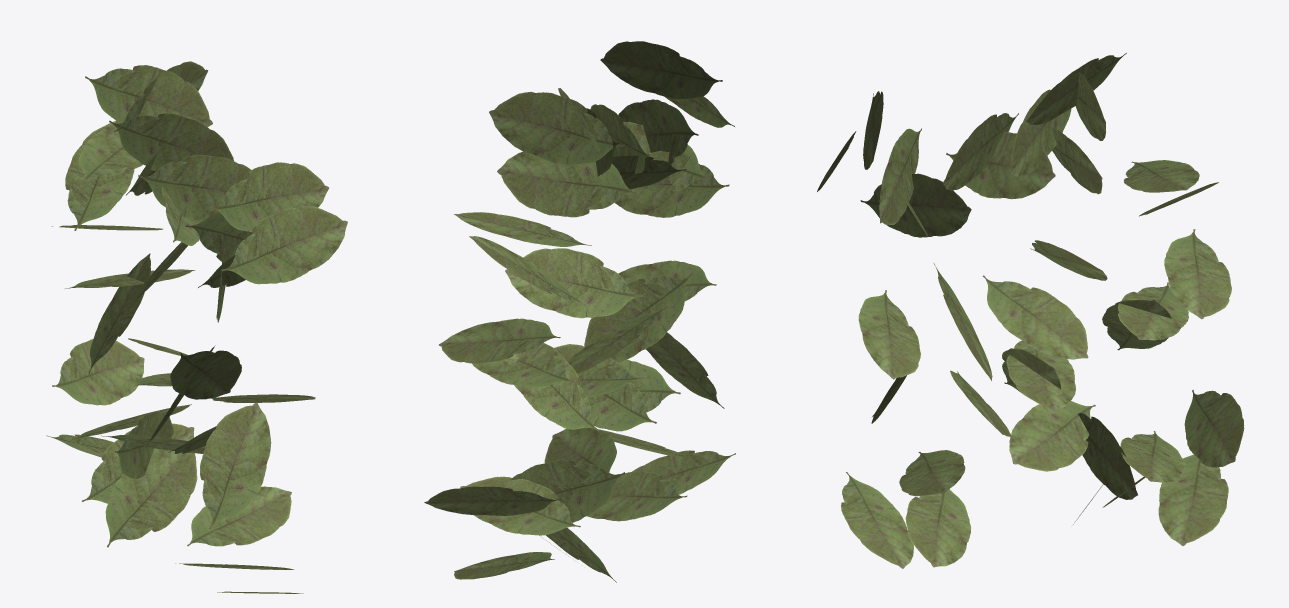
The model's file is VegetWallLeaves_B.fbx.
The picture shows the model from 3 angles, left to right: view 1: azimuth 30°, elevation 25°; view 2: azimuth 150°, elevation 25°; view 3: azimuth 270°, elevation 25°; orthographic projection. The views are drawn at different scales.
Parts seen in each view (by area): view 1: VegetWallLeaves_B; view 2: VegetWallLeaves_B; view 3: VegetWallLeaves_B.
Part boxes in pixels (bbox=[...]): VegetWallLeaves_B: bbox=[46, 61, 347, 593]; VegetWallLeaves_B: bbox=[424, 41, 735, 582]; VegetWallLeaves_B: bbox=[817, 53, 1244, 568].
Size of the model in its own units: 77.28 by 95.47 by 34.08.
